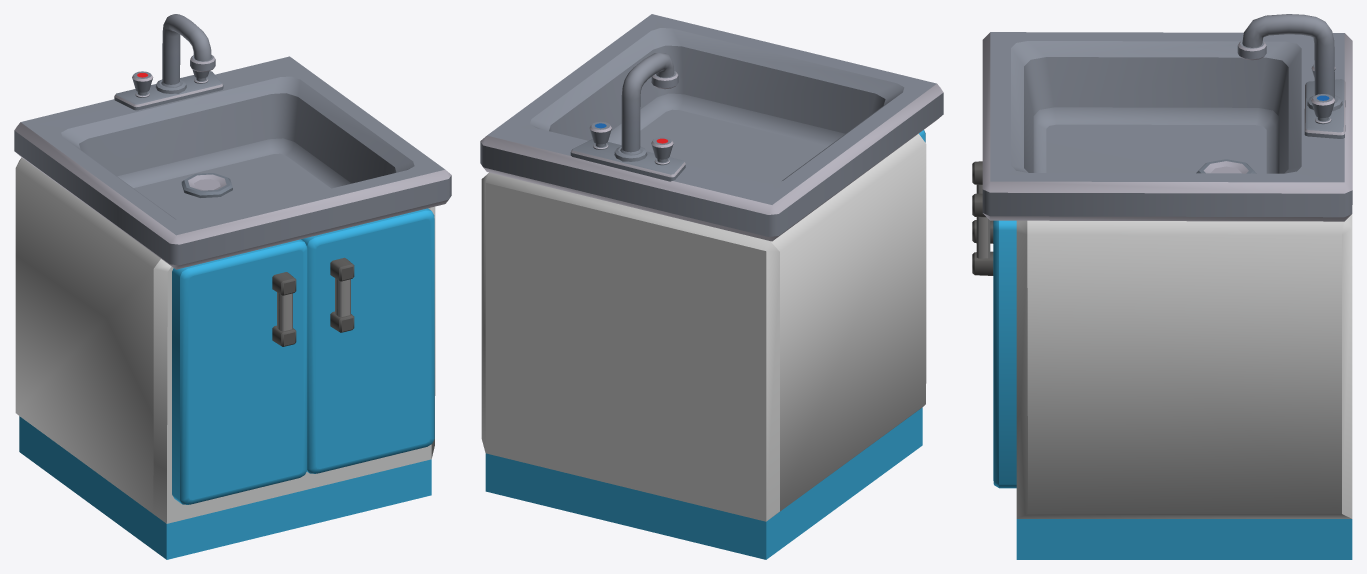
Rendered from Sink_H.glb.
3 renders of one model, left to right at view 1: azimuth 30°, elevation 25°; view 2: azimuth 150°, elevation 25°; view 3: azimuth 270°, elevation 25°, orthographic. The views are drawn at different scales.
Parts seen in each view (by area): view 1: Sink_H, Sink_H_HL, Sink_H_H; view 2: Sink_H; view 3: Sink_H, Sink_H_H, Sink_H_HL.
Part boxes in pixels (x1,y1,x2,y2): Sink_H: (14,14,451,559); Sink_H_HL: (172,239,307,504); Sink_H_H: (301,208,434,473); Sink_H: (480,14,943,559); Sink_H: (982,14,1352,559); Sink_H_H: (972,193,1016,488); Sink_H_HL: (972,161,993,243).
Size of the model in its own units: 0.9 by 1.28 by 0.9244.
Materials: 2 (2 with a texture image).
